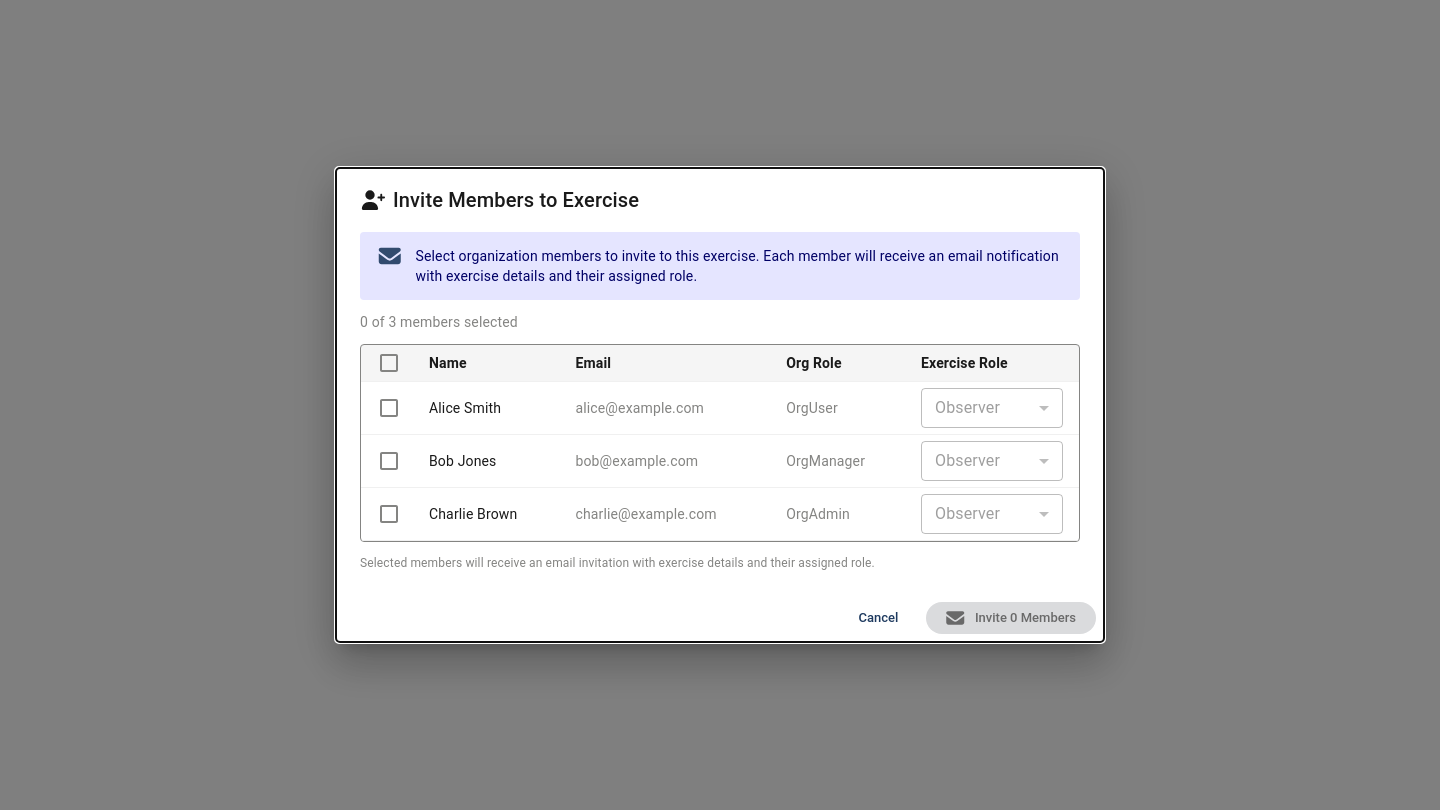
InviteMembersDialog › should allow selecting multiple members
Expected: the text "Alice Smith" is shown, [429, 400, 501, 416]
Select Alice
Step 1. Click the text "Alice Smith" → (720, 408), box [361, 381, 1079, 434]
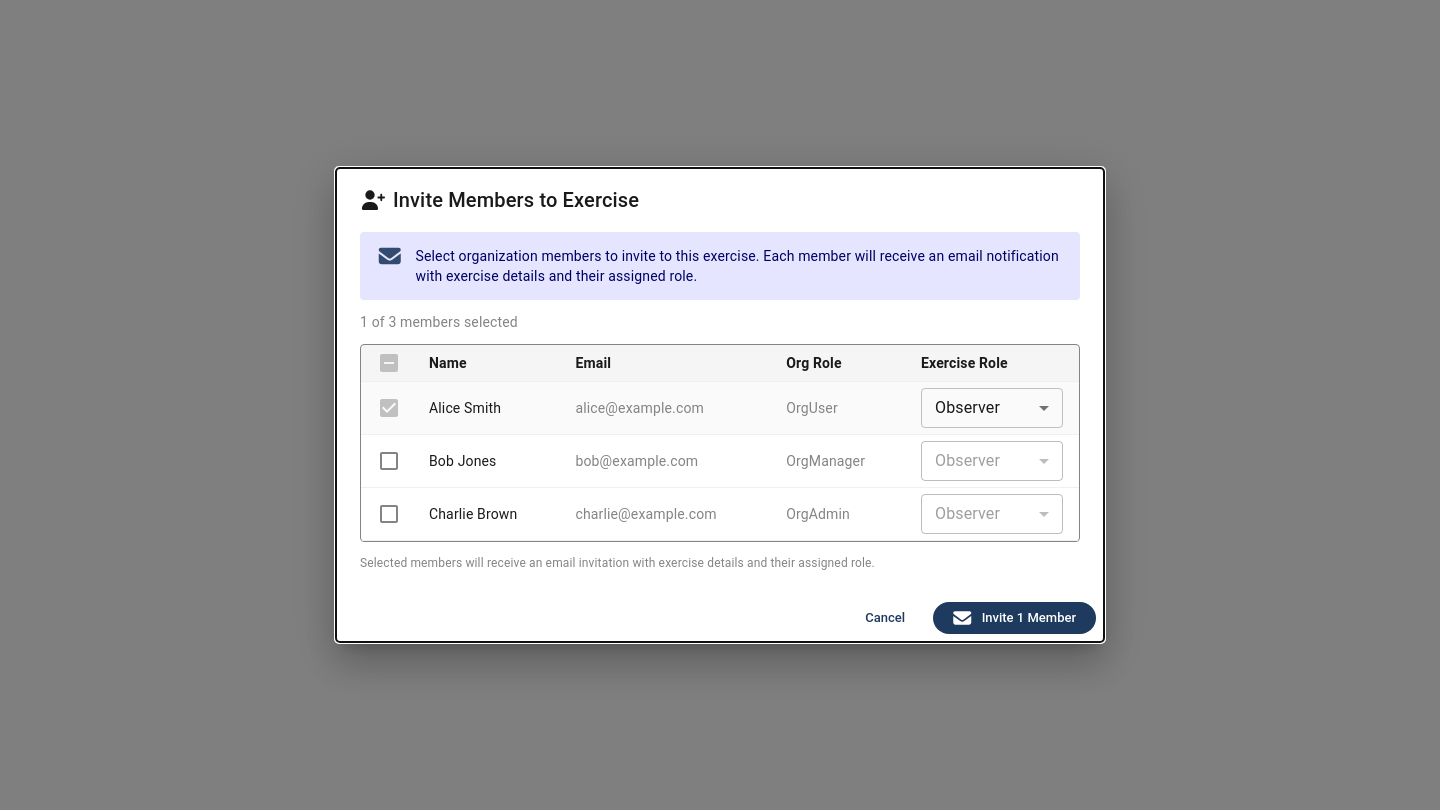
Select Bob
Step 2. Click the text "Bob Jones" → (720, 461), box [361, 434, 1079, 487]
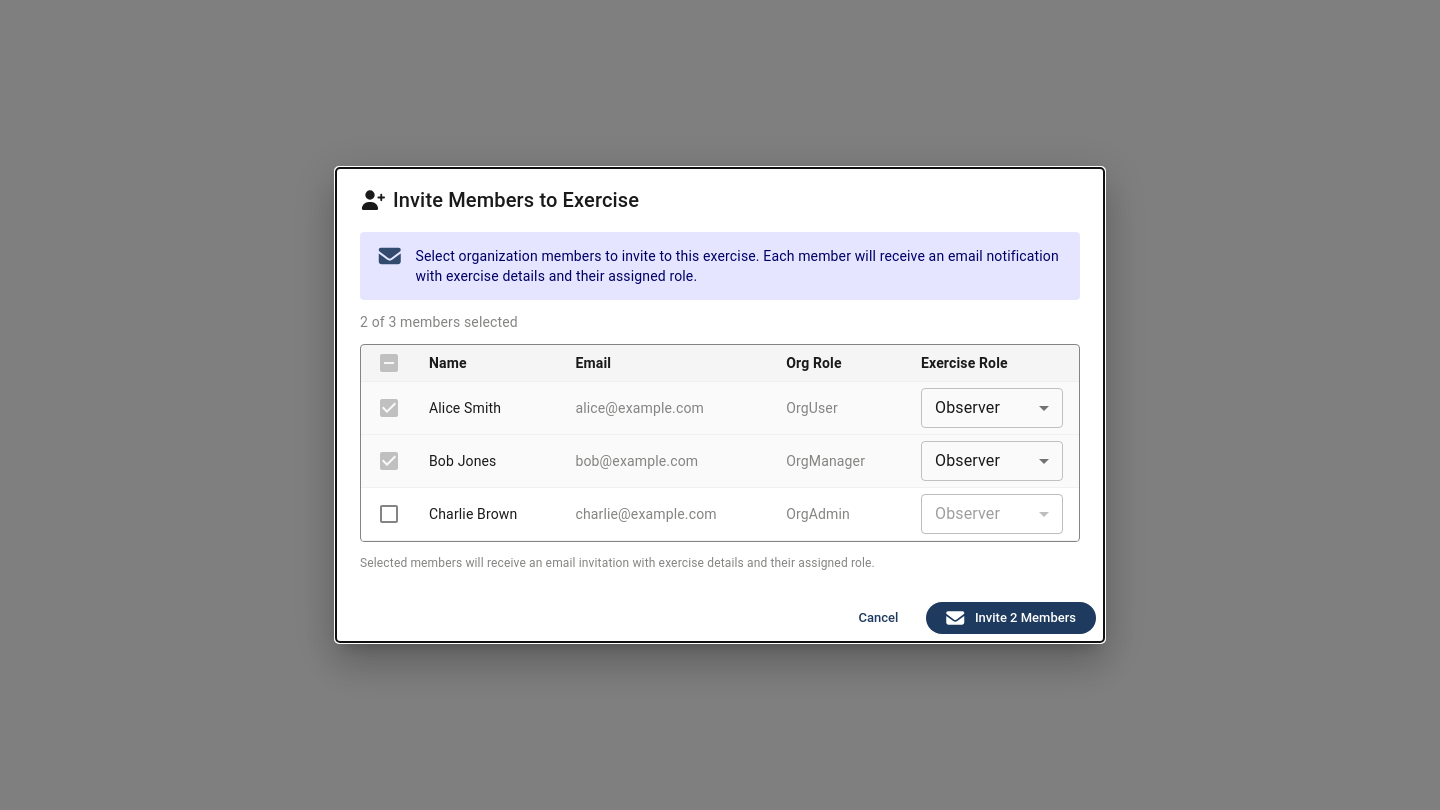
Result: the button "Invite 2 Members" is shown at [926, 602, 1096, 634]
